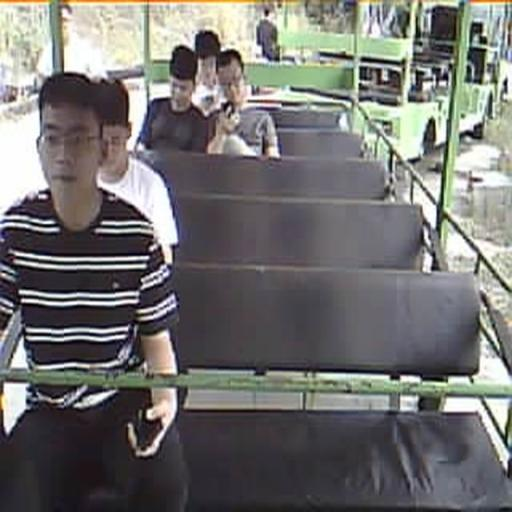persona: (1, 71, 185, 510), (94, 78, 178, 267), (206, 48, 282, 160), (135, 44, 211, 153), (194, 31, 220, 119)
